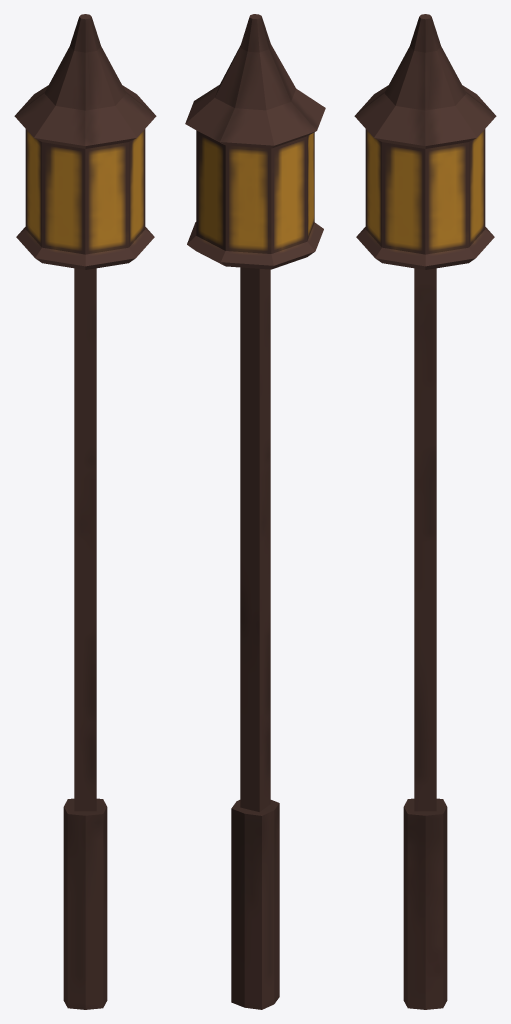
The model's file is BigLattern.glb.
3 views of the same model, side by side, from view 1: azimuth 90°, elevation 25°; view 2: azimuth 150°, elevation 25°; view 3: azimuth 270°, elevation 25° (orthographic).
Parts seen in each view (by area): view 1: Cube.003; view 2: Cube.003; view 3: Cube.003.
Boxes of the visible parts, left/top/right/bottom form: Cube.003: left=14, top=14, right=156, bottom=1009; Cube.003: left=185, top=14, right=325, bottom=1009; Cube.003: left=354, top=14, right=496, bottom=1009.
Size of the model in its own units: 1.88 by 14.36 by 1.88.
Materials: 1 (1 with a texture image).
